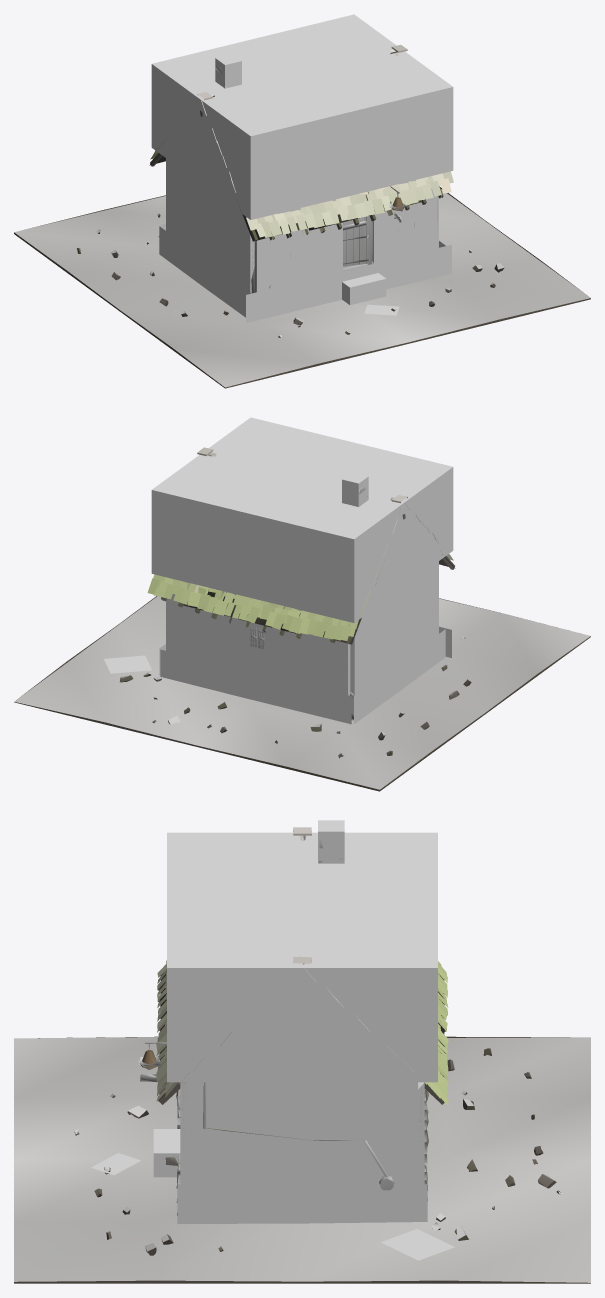
The model's file is bld_lodge_orrin_shared_lite.glb.
The picture shows the model from 3 angles, top to bottom: view 1: azimuth 30°, elevation 25°; view 2: azimuth 150°, elevation 25°; view 3: azimuth 270°, elevation 25°; orthographic projection. The views are drawn at different scales.
Visible parts, largest first — view 1: col_roof, ground_mud, decals_orrin, col_col_wall_W_0, roof_main_shingles, col_col_wall_S_0, col_col_wall_S_2, door_main_leaf, col_steps, col_chimney, lite_merge_06, roof_main_rafters; view 2: col_roof, ground_mud, decals_orrin, col_col_wall_N_0, col_col_wall_W_0, roof_main_shingles, lite_merge_06, col_chimney; view 3: ground_mud, col_roof, col_col_wall_E_0, decals_orrin, roof_main_shingles, lite_merge_06, col_steps, col_chimney, bell_rope, col_col_wall_S_2, col_col_wall_N_0, plinth.
Part boxes in pixels (x1,y1,x2,y2): col_roof: [151, 14, 453, 219]; ground_mud: [14, 187, 590, 388]; decals_orrin: [159, 180, 451, 323]; col_col_wall_W_0: [166, 158, 254, 293]; roof_main_shingles: [150, 49, 453, 237]; col_col_wall_S_0: [254, 199, 342, 292]; col_col_wall_S_2: [372, 188, 437, 263]; door_main_leaf: [343, 215, 372, 266]; col_steps: [342, 273, 386, 304]; col_chimney: [215, 54, 241, 88]; lite_merge_06: [77, 213, 504, 337]; roof_main_rafters: [150, 110, 443, 241]; col_roof: [151, 417, 453, 622]; ground_mud: [14, 596, 590, 791]; decals_orrin: [104, 626, 451, 724]; col_col_wall_N_0: [167, 588, 350, 695]; col_col_wall_W_0: [350, 561, 438, 720]; roof_main_shingles: [147, 452, 453, 640]; lite_merge_06: [120, 636, 471, 758]; col_chimney: [342, 472, 368, 506]; ground_mud: [14, 1036, 590, 1283]; col_roof: [167, 832, 437, 1082]; col_col_wall_E_0: [187, 1082, 417, 1184]; decals_orrin: [91, 1153, 454, 1260]; roof_main_shingles: [156, 835, 448, 1105]; lite_merge_06: [74, 1048, 561, 1255]; col_steps: [153, 1129, 180, 1177]; col_chimney: [318, 820, 344, 863]; bell_rope: [203, 1082, 394, 1190]; col_col_wall_S_2: [180, 1082, 186, 1184]; col_col_wall_N_0: [418, 1082, 424, 1184]; plinth: [176, 1089, 428, 1215].
Bounding box in the file's own units: 13 × 7.34 × 13.
